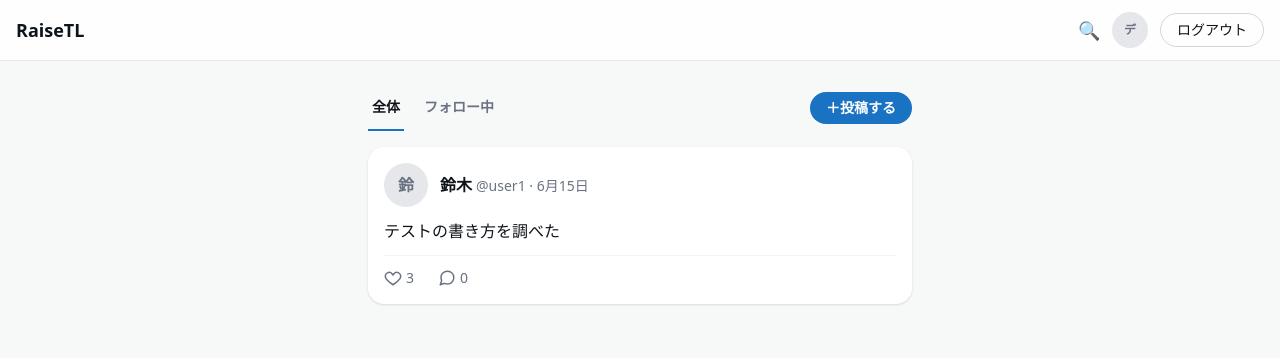
Test case: TimelinePage — いいねに失敗したとき › サーバーに届かなかったときは既定のエラーメッセージを表示する
The image size is (1280, 358).
Click the button "3": [399, 278] box left=384, top=268, right=414, bottom=288
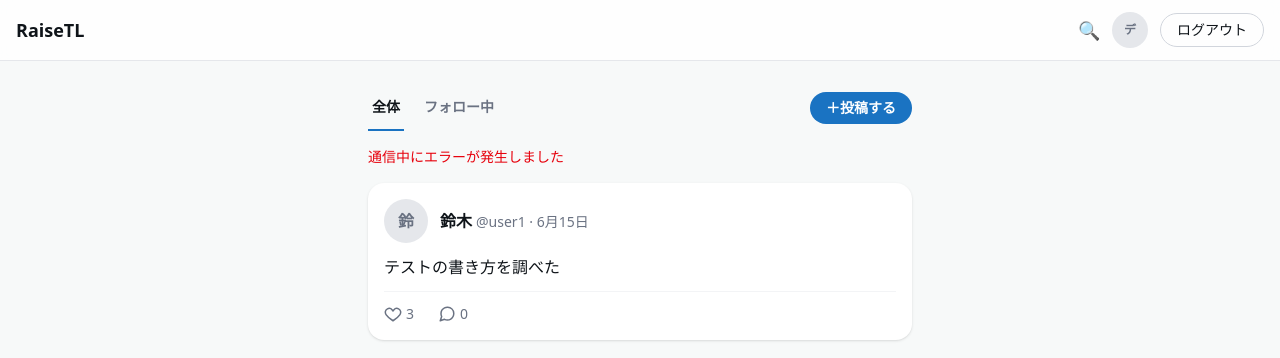
Check: the text "通信中にエラーが発生しました" is shown, box left=368, top=147, right=564, bottom=166
